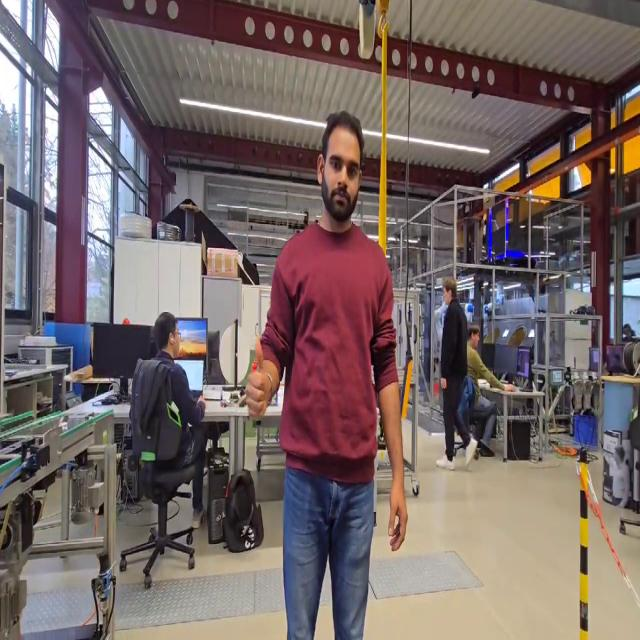thumbs_up: (245, 331, 277, 434)
